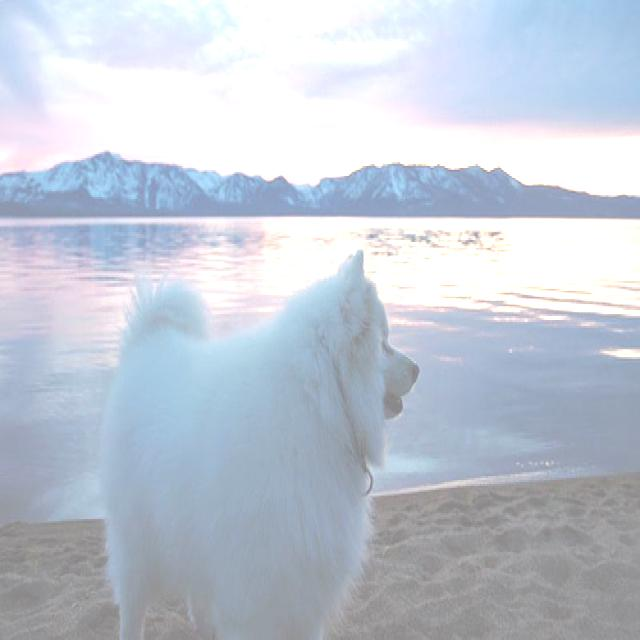Dog: (81, 214, 438, 597)
